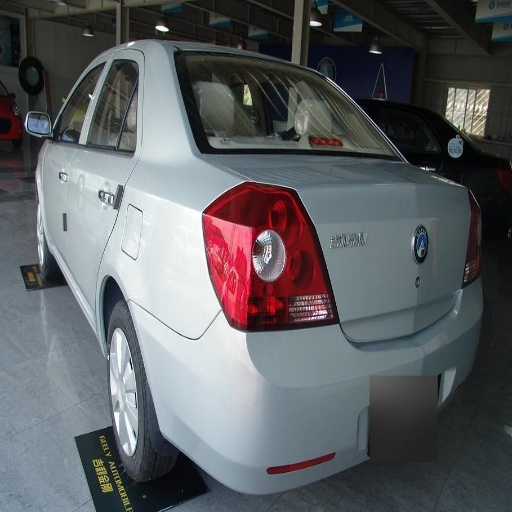back_bumper: (151, 286, 482, 494)
back_glass: (171, 52, 383, 149)
back_left_door: (71, 51, 144, 293)
tailgate: (321, 241, 449, 340)
trunk: (260, 158, 468, 320)
